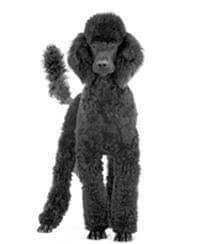Poodle: (36, 16, 178, 238)
